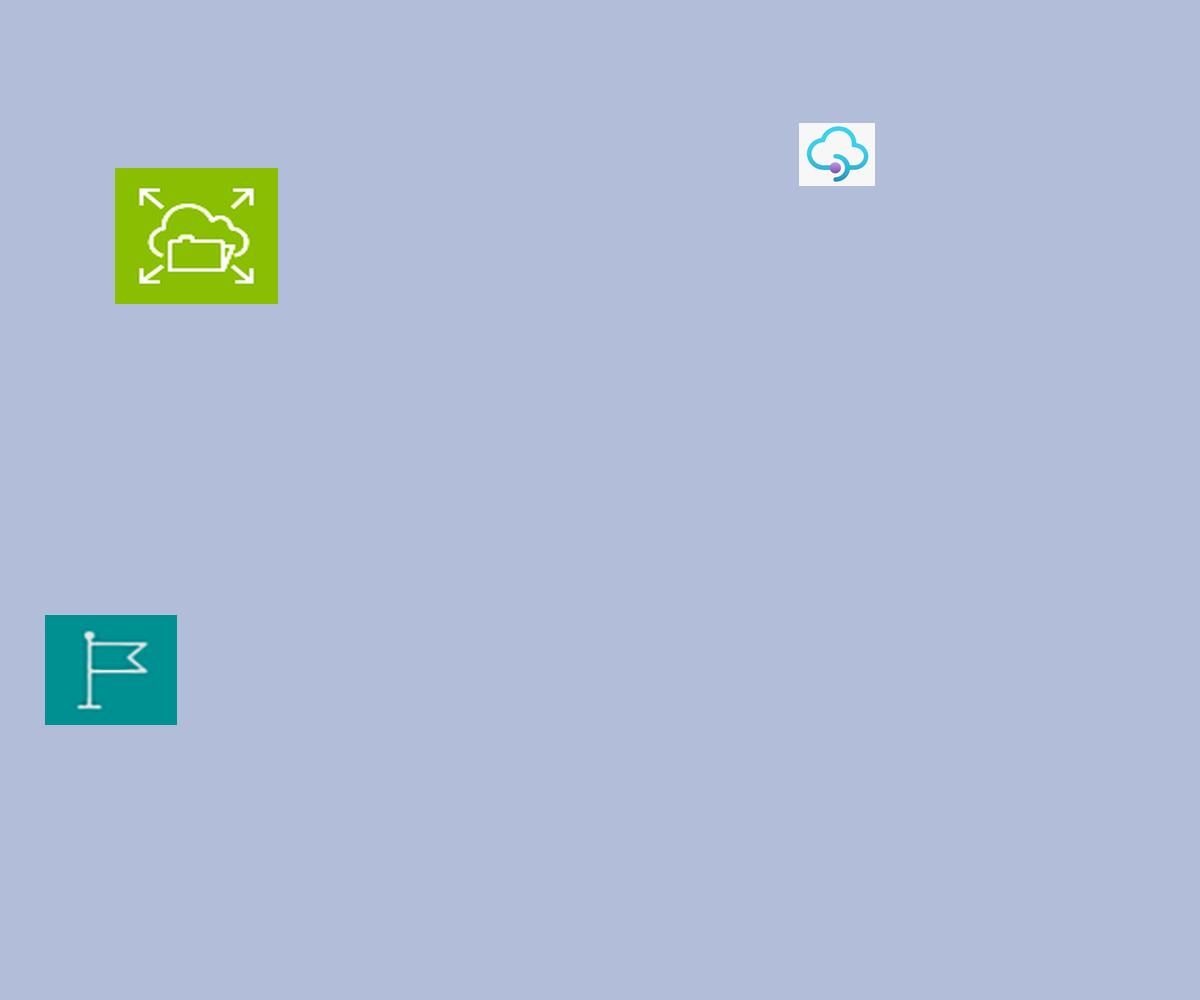AWS-EFS: (115, 168, 278, 304)
AWS-Region: (45, 615, 177, 725)
Azure_api_gateway: (799, 123, 875, 186)
